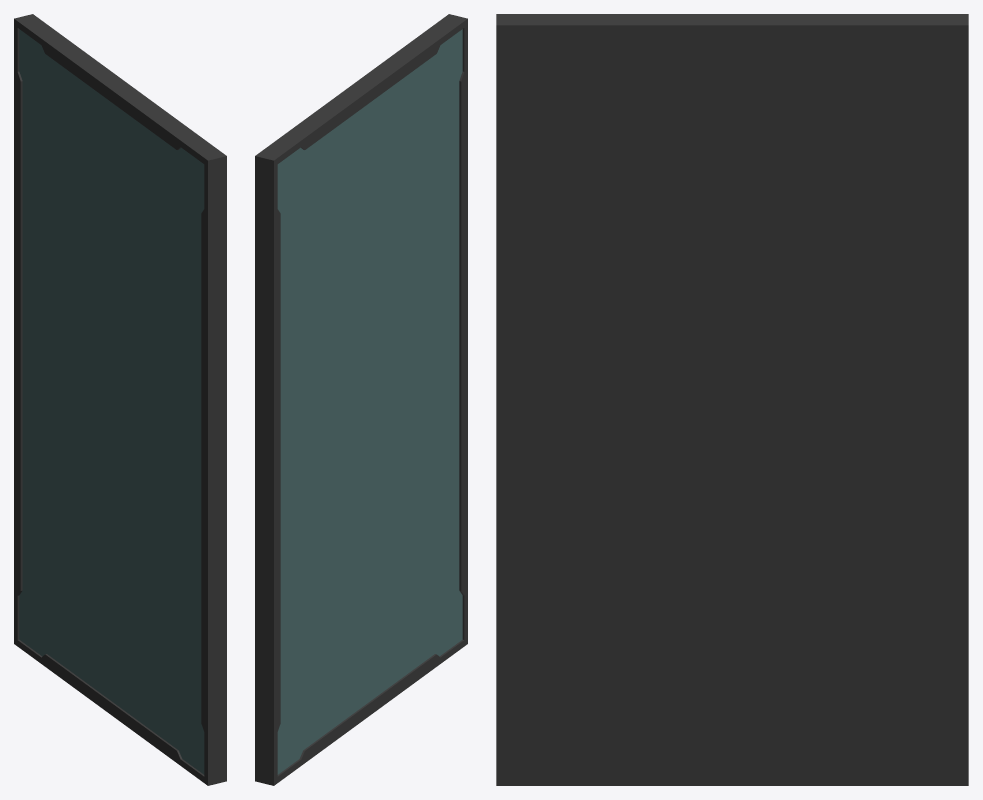
Rendered from Signboard_04_1080x1920.FBX.
3 views of the same model, side by side, from view 1: azimuth 30°, elevation 25°; view 2: azimuth 150°, elevation 25°; view 3: azimuth 270°, elevation 25° (orthographic). The views are drawn at different scales.
Visible parts, largest first — view 1: Signboard_04_1080x1920_LOD0; view 2: Signboard_04_1080x1920_LOD0; view 3: Signboard_04_1080x1920_LOD0.
Boxes of the visible parts, x1,y1,x2,y2 form: Signboard_04_1080x1920_LOD0: (14,14,226,785); Signboard_04_1080x1920_LOD0: (255,14,467,785); Signboard_04_1080x1920_LOD0: (496,14,968,785).
Size of what is drawn, in the model's own units: 5.07 by 160 by 90.
